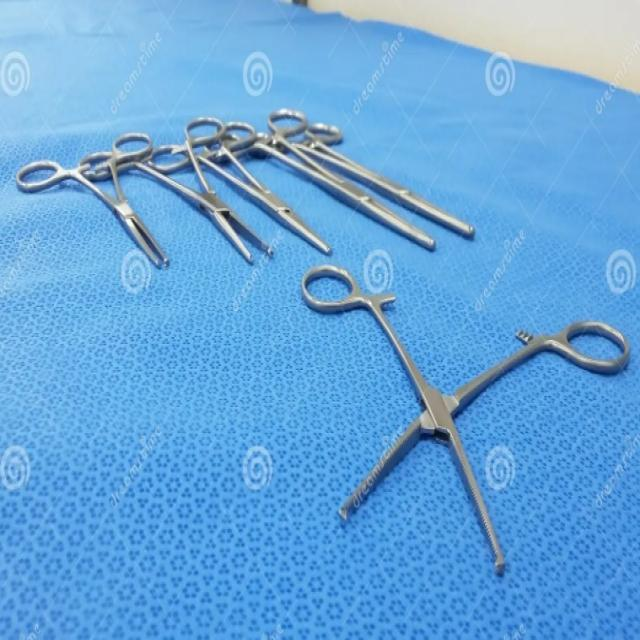Kocher Forceps: (304, 258, 630, 574)
